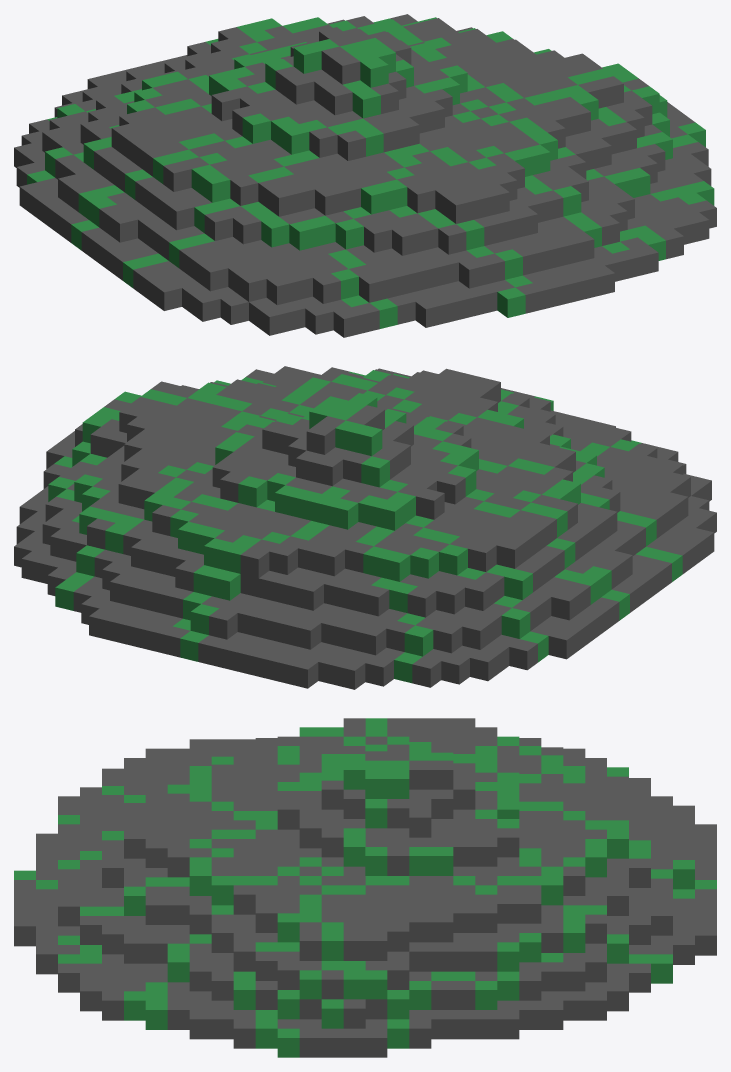
File: Hill4.obj
3 renders of one model, top to bottom at view 1: azimuth 30°, elevation 25°; view 2: azimuth 150°, elevation 25°; view 3: azimuth 270°, elevation 25°, orthographic. The views are drawn at different scales.
Parts seen in each view (by area): view 1: Hill4; view 2: Hill4; view 3: Hill4.
Part boxes in pixels (x1=…): Hill4: x1=14, y1=14, x2=716, y2=337; Hill4: x1=14, y1=366, x2=716, y2=689; Hill4: x1=14, y1=718, x2=716, y2=1057.
Bounding box in the file's own units: 32 × 7 × 32.
Materials: 1 (1 with a texture image).
